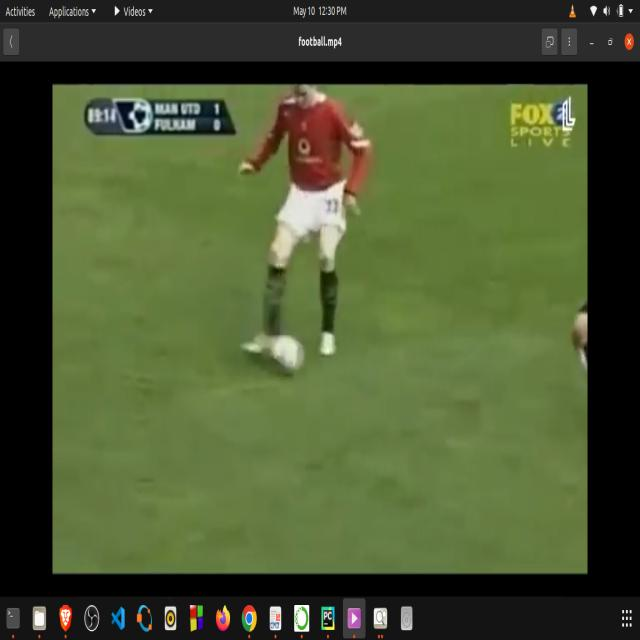Ball: (273, 325, 308, 388)
football-players: (240, 79, 372, 367)
